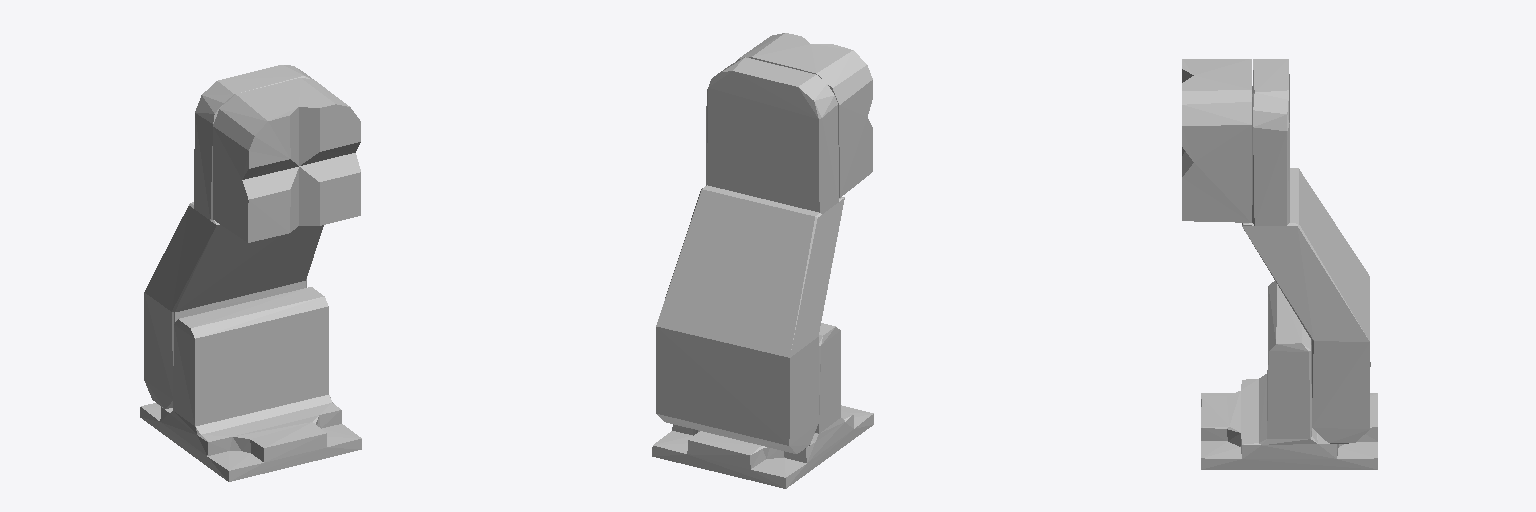
Rendered from finger.obj.
The picture shows the model from 3 angles: view 1: azimuth 30°, elevation 25°; view 2: azimuth 150°, elevation 25°; view 3: azimuth 270°, elevation 25°; orthographic projection.
Visible parts, largest first — view 1: node1_Part__Feature001.006, node0_Part__Feature.007; view 2: node1_Part__Feature001.006, node0_Part__Feature.007; view 3: node1_Part__Feature001.006, node0_Part__Feature.007.
Boxes of the visible parts, <box> form: node1_Part__Feature001.006: <box>140,65,361,481</box>; node0_Part__Feature.007: <box>213,78,360,242</box>; node1_Part__Feature001.006: <box>652,57,873,488</box>; node0_Part__Feature.007: <box>736,33,872,197</box>; node1_Part__Feature001.006: <box>1201,59,1377,469</box>; node0_Part__Feature.007: <box>1182,59,1251,222</box>.
Bounding box in the file's own units: 0.021 × 0.0538 × 0.0264.